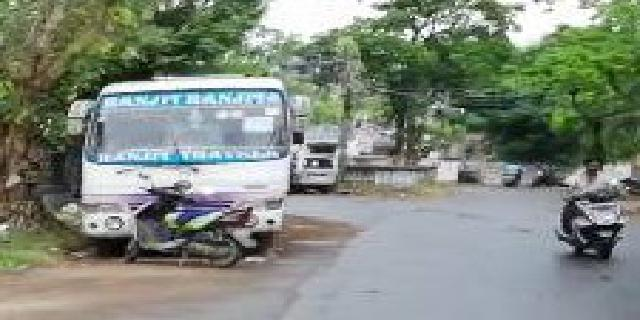Bus: (68, 81, 295, 265)
Motorbike: (118, 173, 250, 277), (554, 158, 625, 264)
